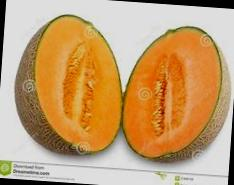Melon Ripe: (11, 9, 130, 158), (119, 20, 234, 166)
